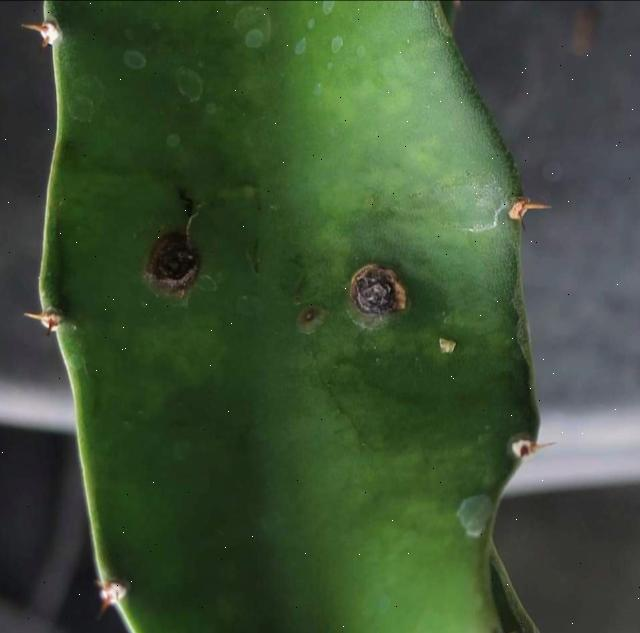stemcanker: (141, 211, 208, 303), (341, 258, 410, 326)
